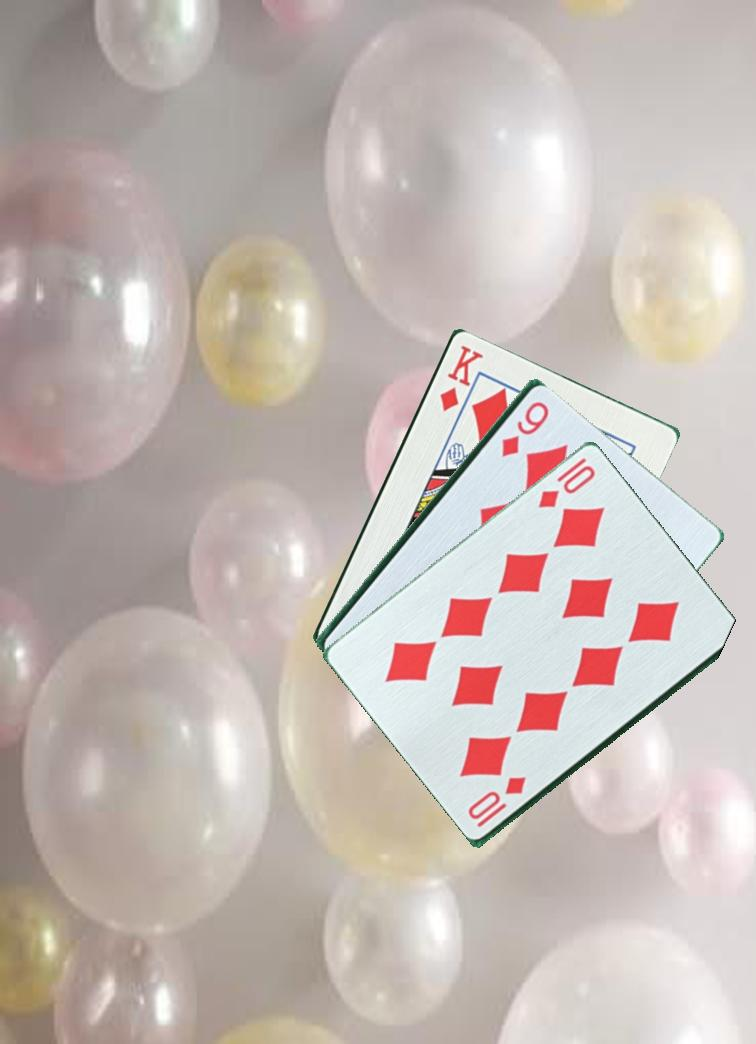9d: (497, 396, 552, 460)
kd: (435, 341, 483, 414)
td: (473, 770, 536, 830), (534, 460, 599, 511)
